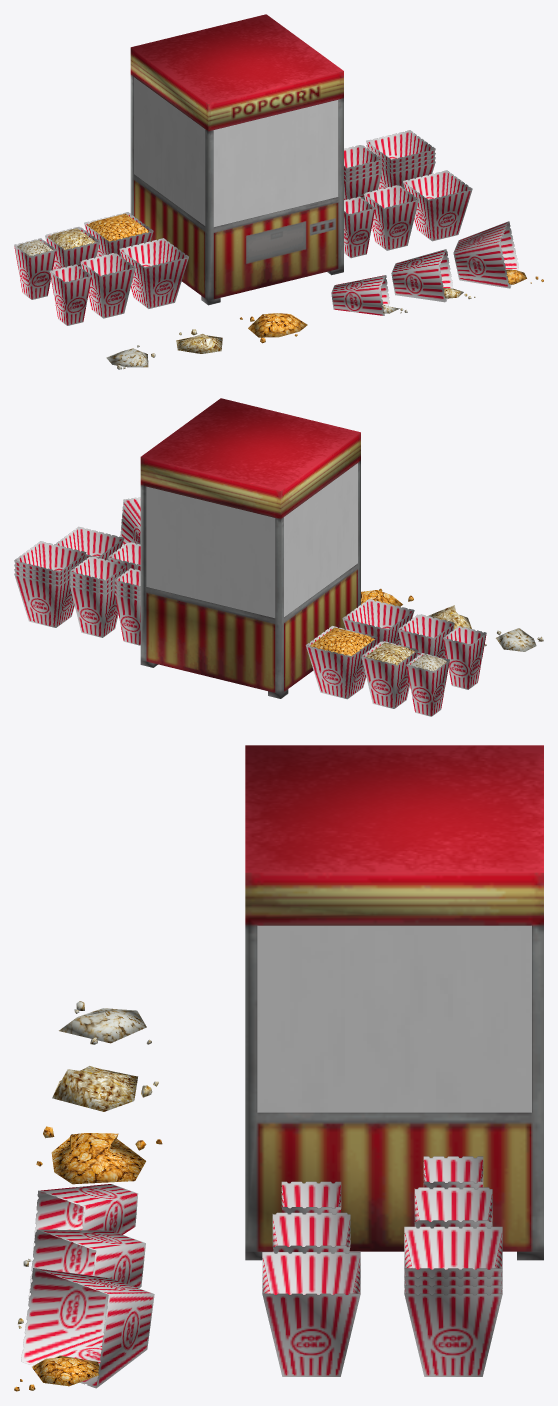
Rendered from PopcornMachine&Boxes.fbx.
3 renders of one model, top to bottom at view 1: azimuth 30°, elevation 25°; view 2: azimuth 150°, elevation 25°; view 3: azimuth 270°, elevation 25°, orthographic. The views are drawn at different scales.
Visible parts, largest first — view 1: PopcornMachine, Clutter03, EmptyPopcornTubL, HalfPopcornTubL, StackedLTubs, Clutter02, HalfPopcornTubM, EmptyPopcornTubM, Clutter01, HalfPopcornTubS, FullPopcornTubS, FullPopcornTubL (+6 smaller); view 2: PopcornMachine, StackedLTubs, FullPopcornTubL, StackedMTubs, FullPopcornTubM, FullPopcornTubS, HalfPopcornTubS, HalfPopcornTubL, HalfPopcornTubM, StackedSTubs, EmptyPopcornTubL, Clutter03 (+4 smaller); view 3: PopcornMachine, StackedLTubs, Clutter03, EmptyPopcornTubL, Clutter02, Clutter01, Clutter06, StackedMTubs, EmptyPopcornTubM, Clutter05, Clutter04, StackedSTubs (+1 smaller).
Part boxes in pixels (bbox=[...]): PopcornMachine: bbox=[130, 14, 343, 305]; Clutter03: bbox=[453, 221, 543, 288]; EmptyPopcornTubL: bbox=[403, 170, 472, 241]; HalfPopcornTubL: bbox=[119, 238, 188, 308]; StackedLTubs: bbox=[366, 130, 435, 190]; Clutter02: bbox=[391, 249, 475, 302]; HalfPopcornTubM: bbox=[80, 253, 135, 318]; EmptyPopcornTubM: bbox=[364, 185, 418, 250]; Clutter01: bbox=[331, 275, 407, 315]; HalfPopcornTubS: bbox=[49, 264, 91, 325]; FullPopcornTubS: bbox=[14, 238, 56, 299]; FullPopcornTubL: bbox=[84, 212, 153, 256]; PopcornMachine: bbox=[140, 398, 360, 698]; StackedLTubs: bbox=[14, 541, 86, 627]; FullPopcornTubL: bbox=[305, 625, 377, 699]; StackedMTubs: bbox=[69, 556, 126, 637]; FullPopcornTubM: bbox=[361, 641, 417, 708]; FullPopcornTubS: bbox=[406, 653, 449, 716]; HalfPopcornTubS: bbox=[443, 626, 486, 689]; HalfPopcornTubL: bbox=[342, 599, 414, 645]; HalfPopcornTubM: bbox=[398, 614, 454, 659]; StackedSTubs: bbox=[114, 568, 140, 645]; EmptyPopcornTubL: bbox=[54, 526, 124, 560]; Clutter03: bbox=[120, 497, 140, 545]; PopcornMachine: bbox=[245, 745, 543, 1260]; StackedLTubs: bbox=[404, 1226, 502, 1376]; Clutter03: bbox=[14, 1268, 154, 1391]; EmptyPopcornTubL: bbox=[262, 1252, 360, 1376]; Clutter02: bbox=[18, 1229, 145, 1328]; Clutter01: bbox=[23, 1184, 138, 1266]; Clutter06: bbox=[36, 1126, 162, 1184]; StackedMTubs: bbox=[414, 1187, 492, 1228]; EmptyPopcornTubM: bbox=[272, 1212, 350, 1253]; Clutter05: bbox=[52, 1066, 158, 1111]; Clutter04: bbox=[59, 1001, 151, 1044]; StackedSTubs: bbox=[423, 1156, 483, 1188].
Size of the model in its own units: 258 by 121 by 150.
